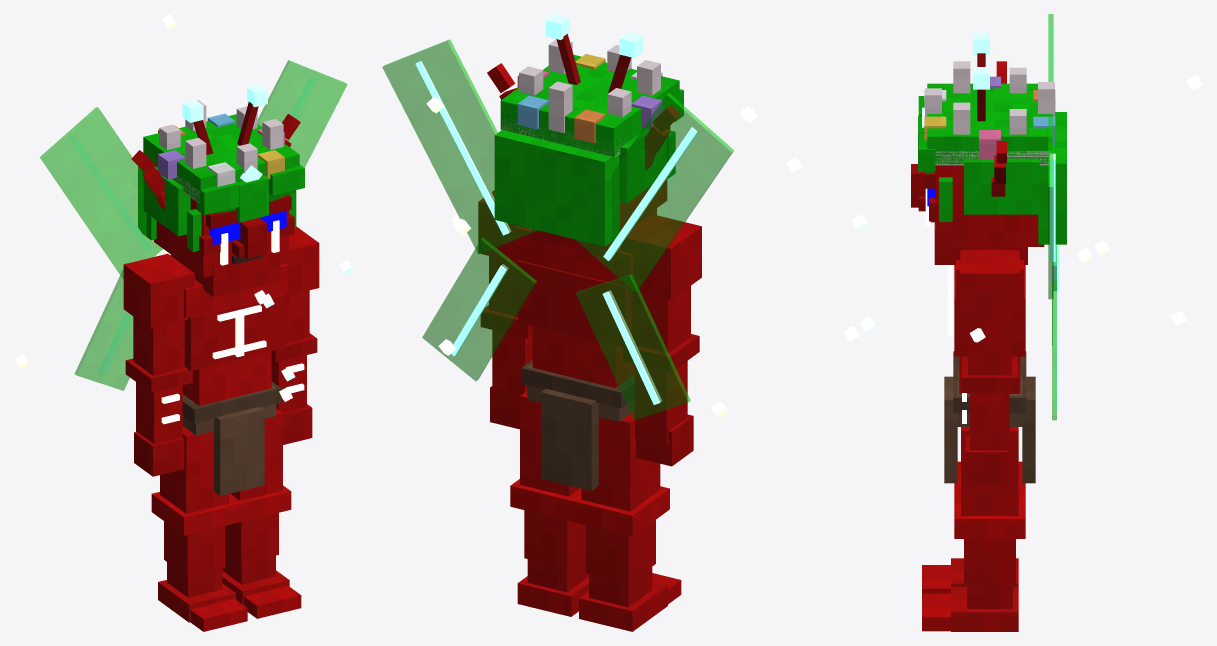
Rendered from fairy_s0_evo1.glb.
3 renders of one model, left to right at view 1: azimuth 30°, elevation 25°; view 2: azimuth 150°, elevation 25°; view 3: azimuth 270°, elevation 25°, orthographic. The views are drawn at different scales.
Parts seen in each view (by area): view 1: Torso, Head, ArmR, LegR, LegL, ArmL; view 2: Torso, Head, LegR, ArmR, LegL, ArmL; view 3: Head, ArmL, LegL, Torso, LegR.
Part boxes in pixels (<box>): Torso: <box>14,14,353,495</box>; Head: <box>131,84,304,296</box>; ArmR: <box>123,253,194,476</box>; LegR: <box>151,426,247,631</box>; LegL: <box>222,408,301,618</box>; ArmL: <box>271,226,319,444</box>; Torso: <box>382,39,757,490</box>; Head: <box>487,14,683,255</box>; LegR: <box>571,411,681,631</box>; ArmR: <box>620,214,701,466</box>; LegL: <box>510,391,588,616</box>; ArmL: <box>478,190,532,429</box>; Head: <box>911,32,1066,264</box>; ArmL: <box>960,250,1019,485</box>; LegL: <box>922,427,1025,631</box>; Torso: <box>786,14,1202,483</box>; LegR: <box>922,461,1025,593</box>.
Size of the model in its own units: 0.7287 by 1.11 by 0.7622.
33 materials, 33 textured.
